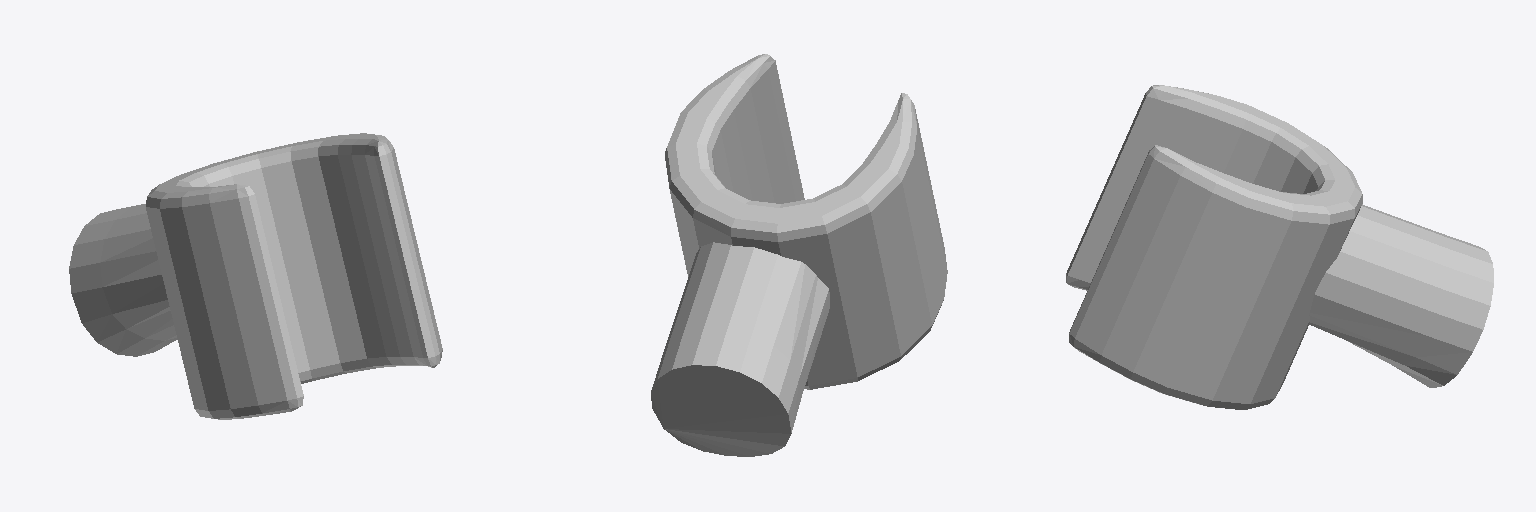
Rendered from Extra2SeatedLeftHand.obj.
3 renders of one model, left to right at view 1: azimuth 30°, elevation 25°; view 2: azimuth 150°, elevation 25°; view 3: azimuth 270°, elevation 25°, orthographic.
Visible parts, largest first — view 1: Mesh_0140_Mesh_0140Mesh.002; view 2: Mesh_0140_Mesh_0140Mesh.002; view 3: Mesh_0140_Mesh_0140Mesh.002.
Boxes of the visible parts, box(x1,y1,x2,y2) form: Mesh_0140_Mesh_0140Mesh.002: box(69, 133, 442, 419); Mesh_0140_Mesh_0140Mesh.002: box(651, 54, 947, 456); Mesh_0140_Mesh_0140Mesh.002: box(1066, 85, 1493, 409).
Bounding box in the file's own units: 0.0466 × 0.0544 × 0.075.